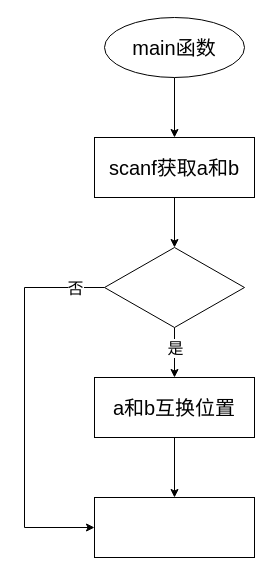
This 272x575 diagram has some shape labels left out. Here are the shapes that lost their labels. From the top down, the centre of each, then its label:
At [174,287]: "a < b ?".
At [174,527]: "输出a和b".
